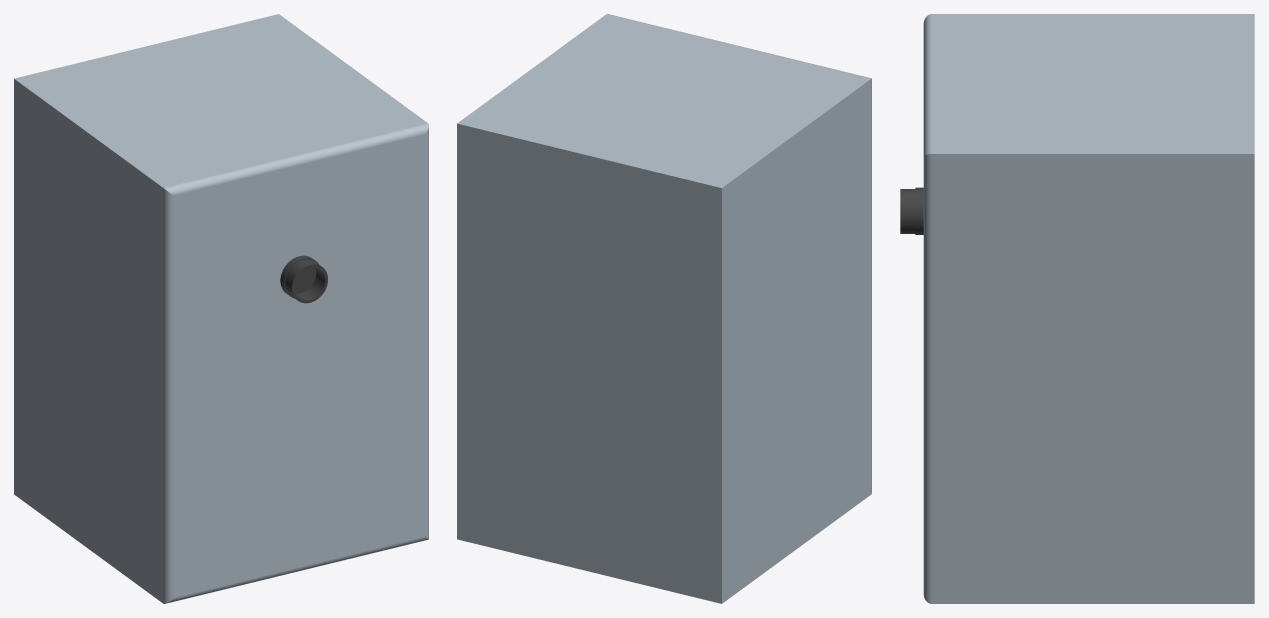
Rendered from modifiedBox.dae.
3 renders of one model, left to right at view 1: azimuth 30°, elevation 25°; view 2: azimuth 150°, elevation 25°; view 3: azimuth 270°, elevation 25°, orthographic. The views are drawn at different scales.
Parts seen in each view (by area): view 1: 5e974b57e9deae137b7d3284 (×2); view 2: 5e974b57e9deae137b7d3284 (×2); view 3: 5e974b57e9deae137b7d3284 (×2).
Part boxes in pixels (x1,y1,x2,y2): 5e974b57e9deae137b7d3284 (×2): [14, 14, 428, 603]; 5e974b57e9deae137b7d3284 (×2): [457, 14, 871, 603]; 5e974b57e9deae137b7d3284 (×2): [900, 14, 1254, 603].
Bounding box in the file's own units: 0.2 × 0.214 × 0.3.
